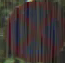No Stopping: (9, 2, 56, 54)
